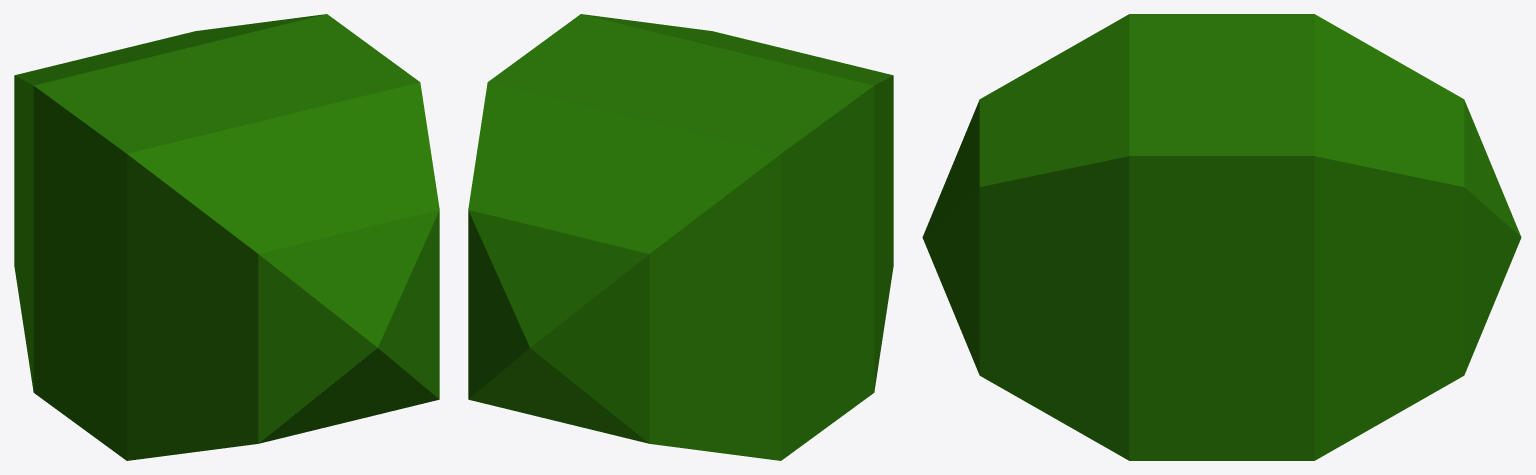
The model's file is sandia.fbx.
3 renders of one model, left to right at view 1: azimuth 30°, elevation 25°; view 2: azimuth 150°, elevation 25°; view 3: azimuth 270°, elevation 25°, orthographic.
Visible parts, largest first — view 1: Sandia; view 2: Sandia; view 3: Sandia.
Boxes of the visible parts, x1=… form: Sandia: x1=14, y1=14, x2=439, y2=460; Sandia: x1=468, y1=14, x2=893, y2=460; Sandia: x1=922, y1=14, x2=1521, y2=460.
Bounding box in the file's own units: 10.6 × 10.6 × 18.88.
